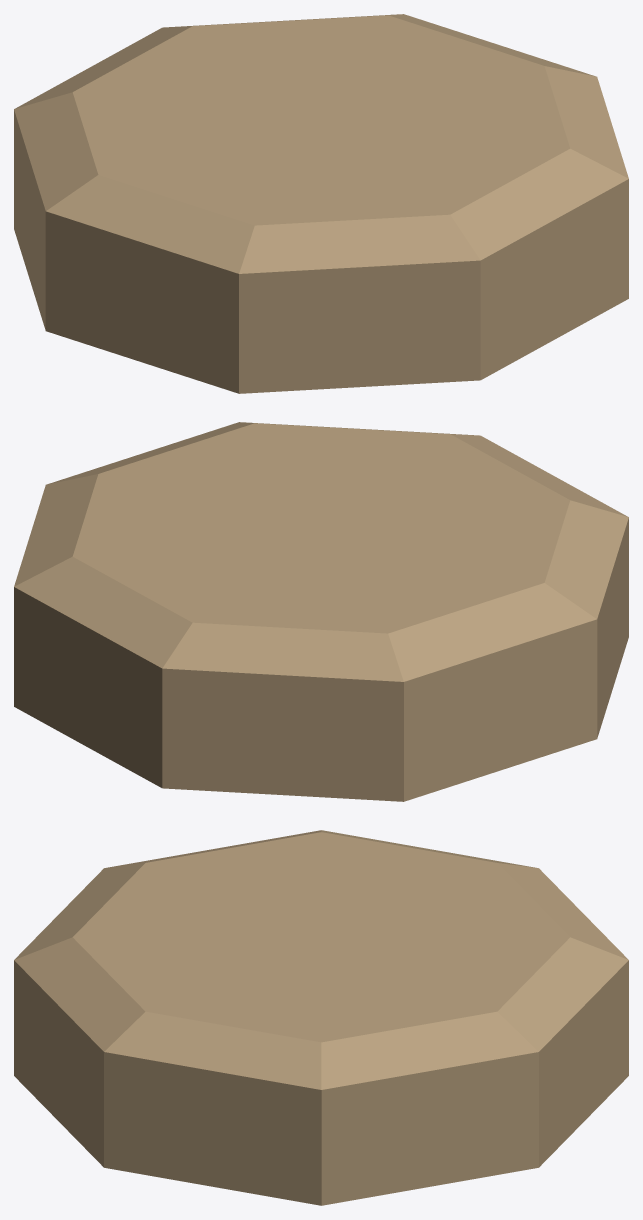
Rendered from ButtonBottom_Mesh.fbx.
3 renders of one model, top to bottom at view 1: azimuth 30°, elevation 25°; view 2: azimuth 150°, elevation 25°; view 3: azimuth 270°, elevation 25°, orthographic. The views are drawn at different scales.
Parts seen in each view (by area): view 1: polySurface15; view 2: polySurface15; view 3: polySurface15.
Part boxes in pixels (bbox=[...]): polySurface15: bbox=[14, 14, 628, 393]; polySurface15: bbox=[14, 422, 628, 801]; polySurface15: bbox=[14, 830, 628, 1205].
Size of the model in its own units: 14.19 by 3.53 by 14.19.
